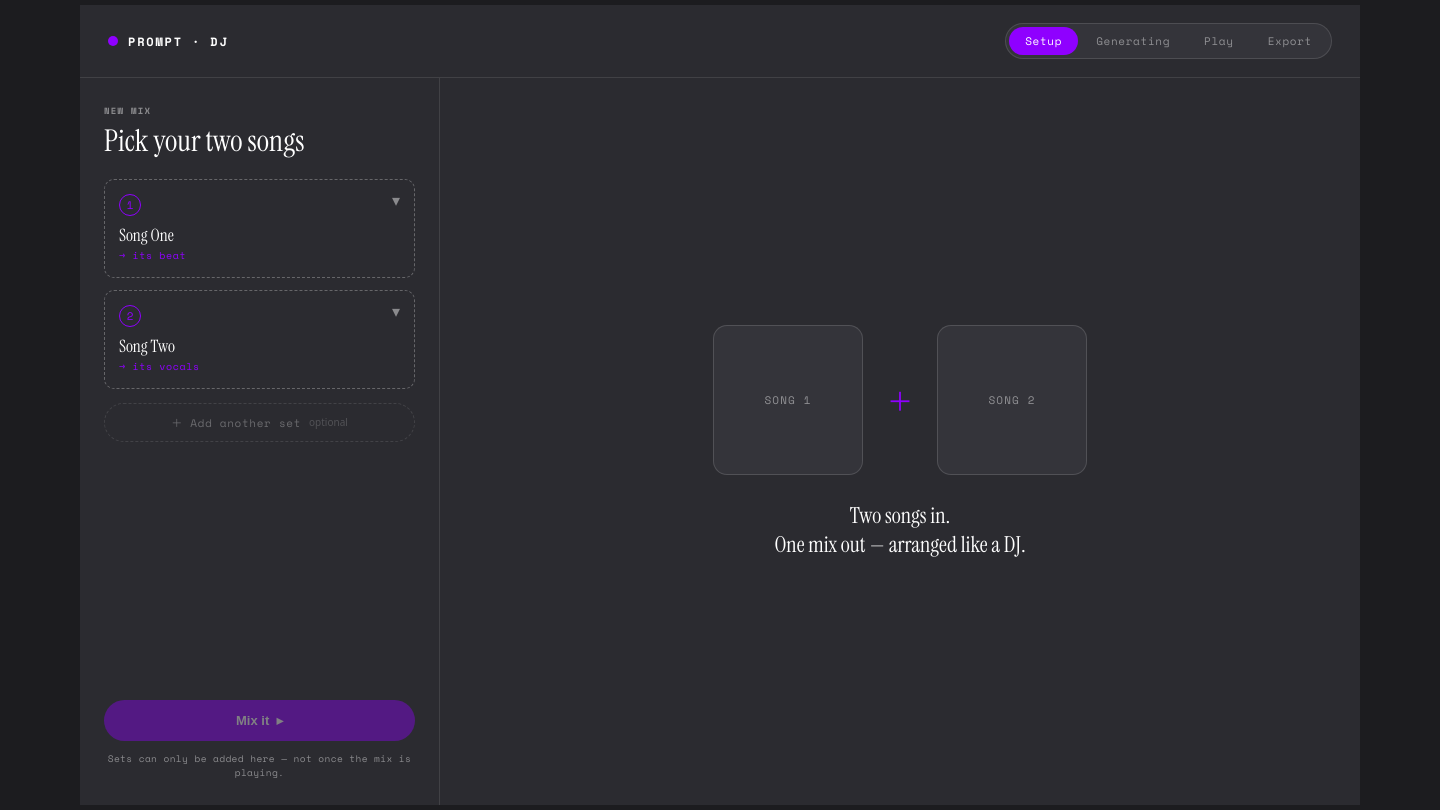
Test: App — the catalog flow › picks two catalog songs → generating → lands on the stripped Play screen (no steering)
The width and height of the screenshot is (1440, 810).
Click the button with test id "song-slot-1". click: {"x": 146, "y": 234}
box: [104,178,415,278]
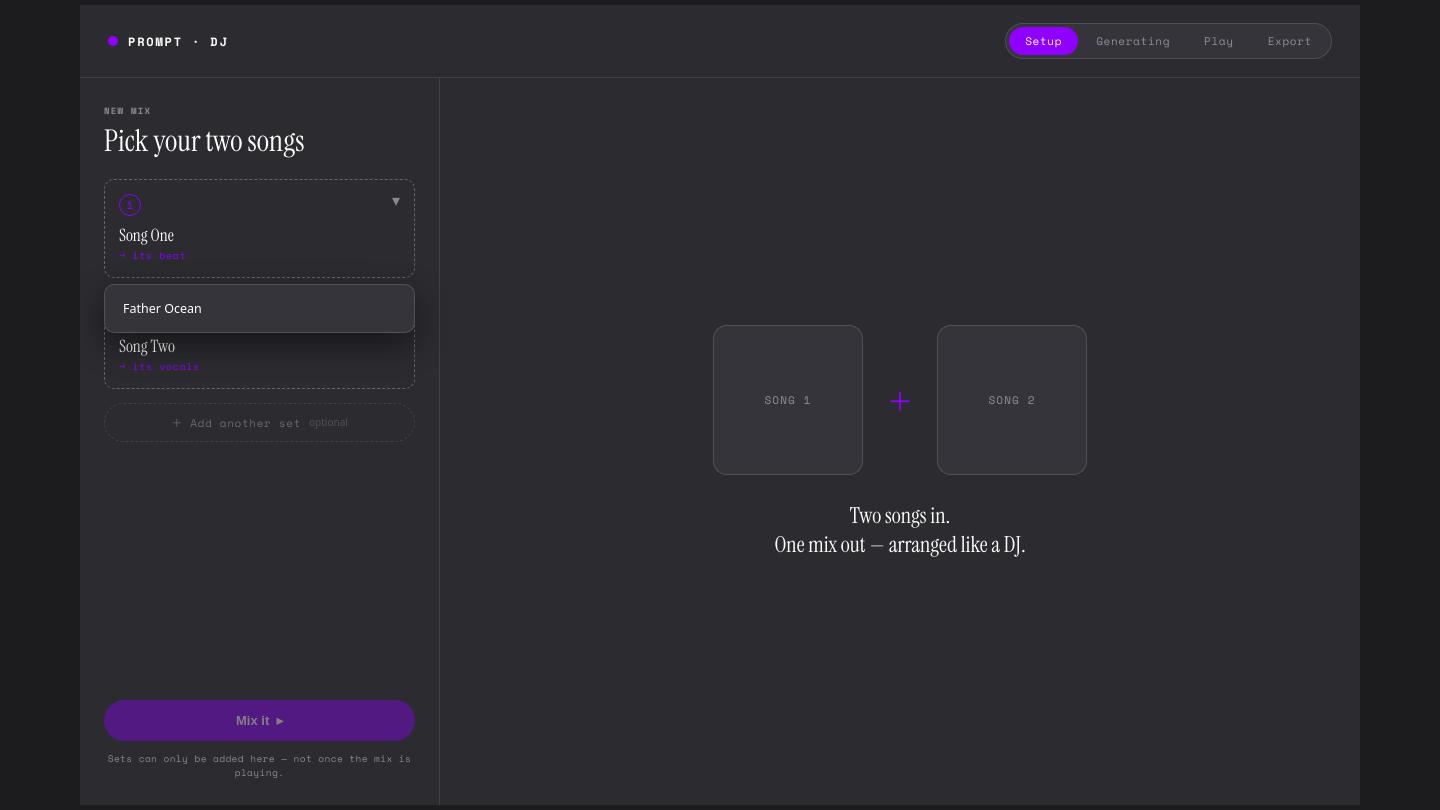
Click the option "Father Ocean". click: {"x": 162, "y": 308}
box: [111,290,408,326]
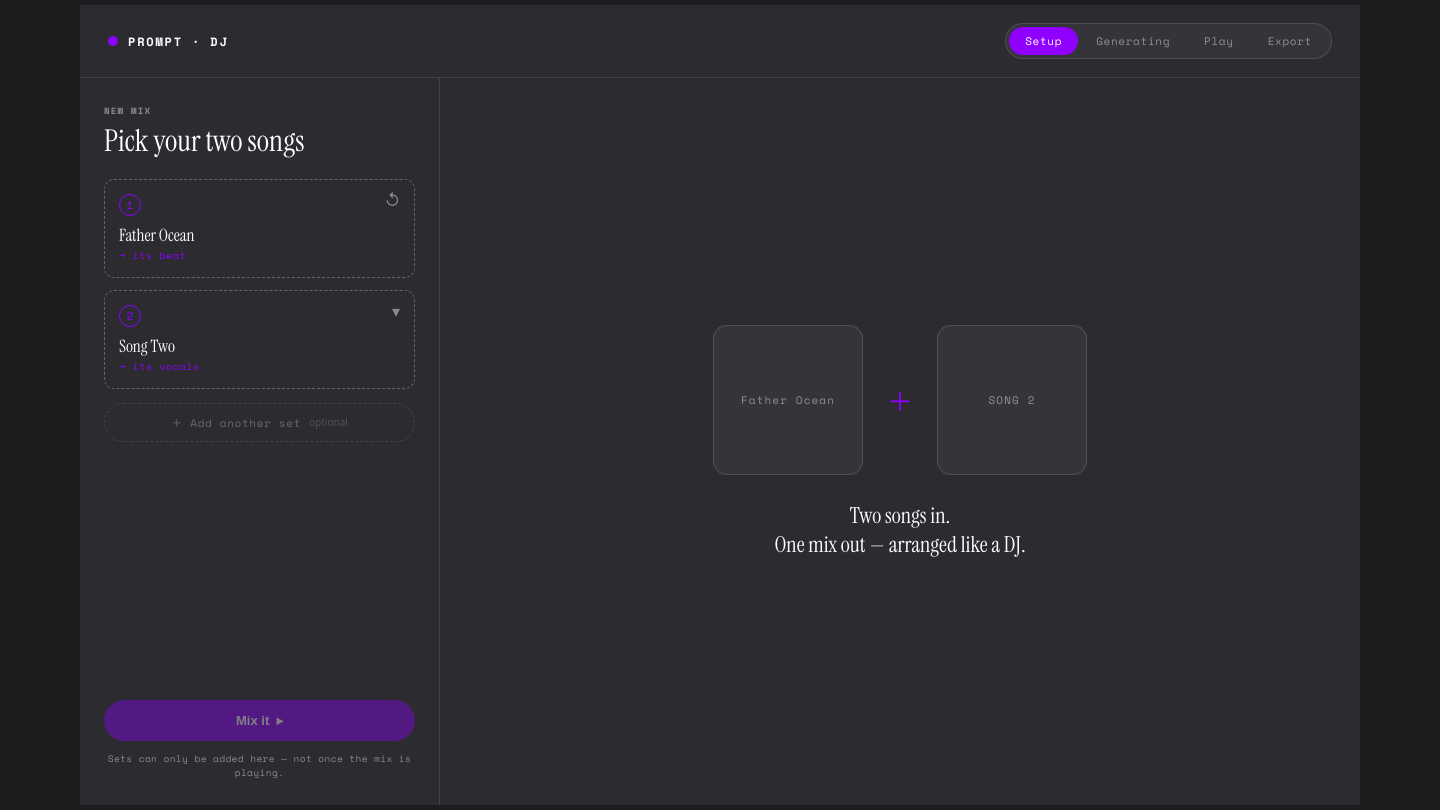
Click the button with test id "song-slot-2". click: {"x": 147, "y": 346}
box: [104,290,415,388]
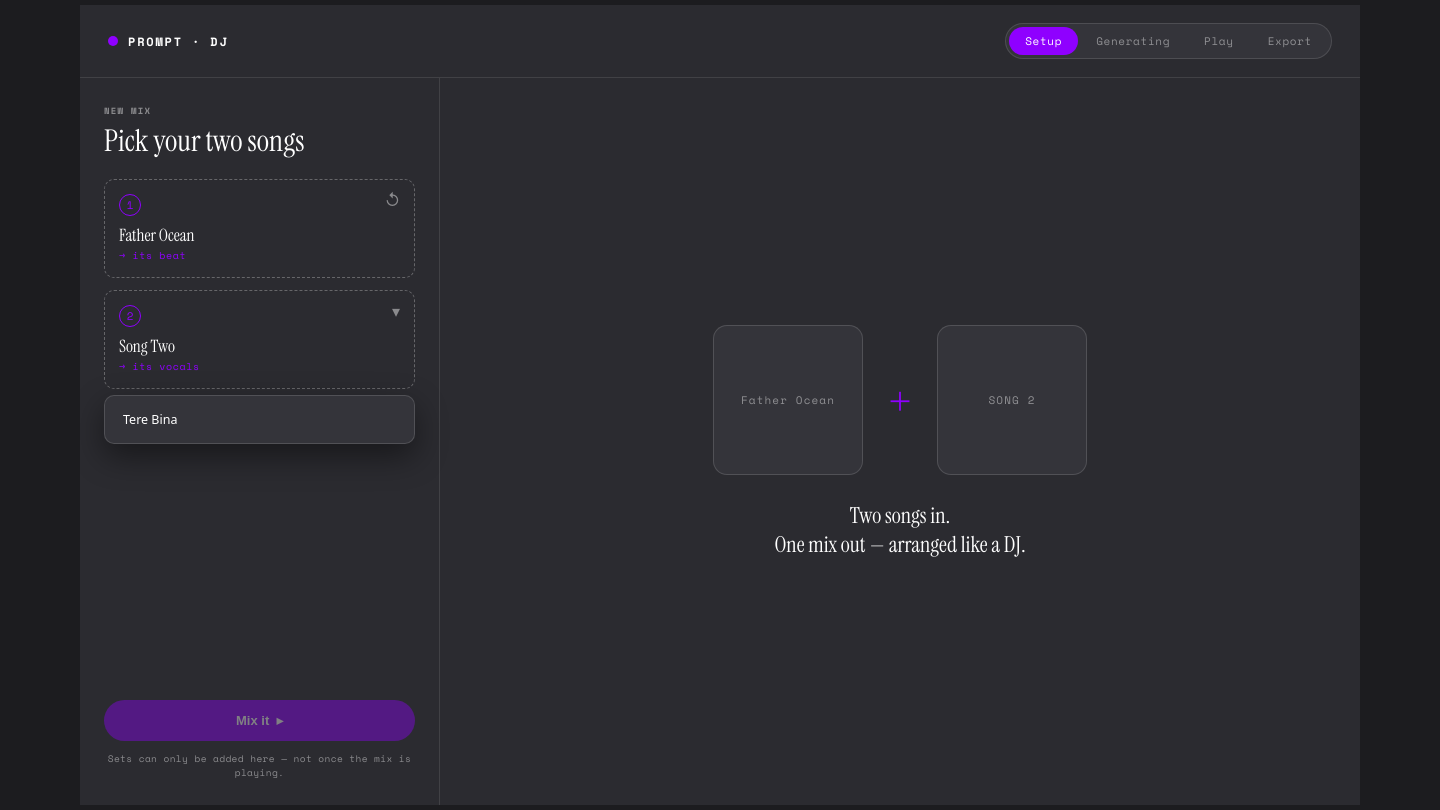
Click the option "Tere Bina". click: {"x": 150, "y": 419}
box: [111,402,408,436]
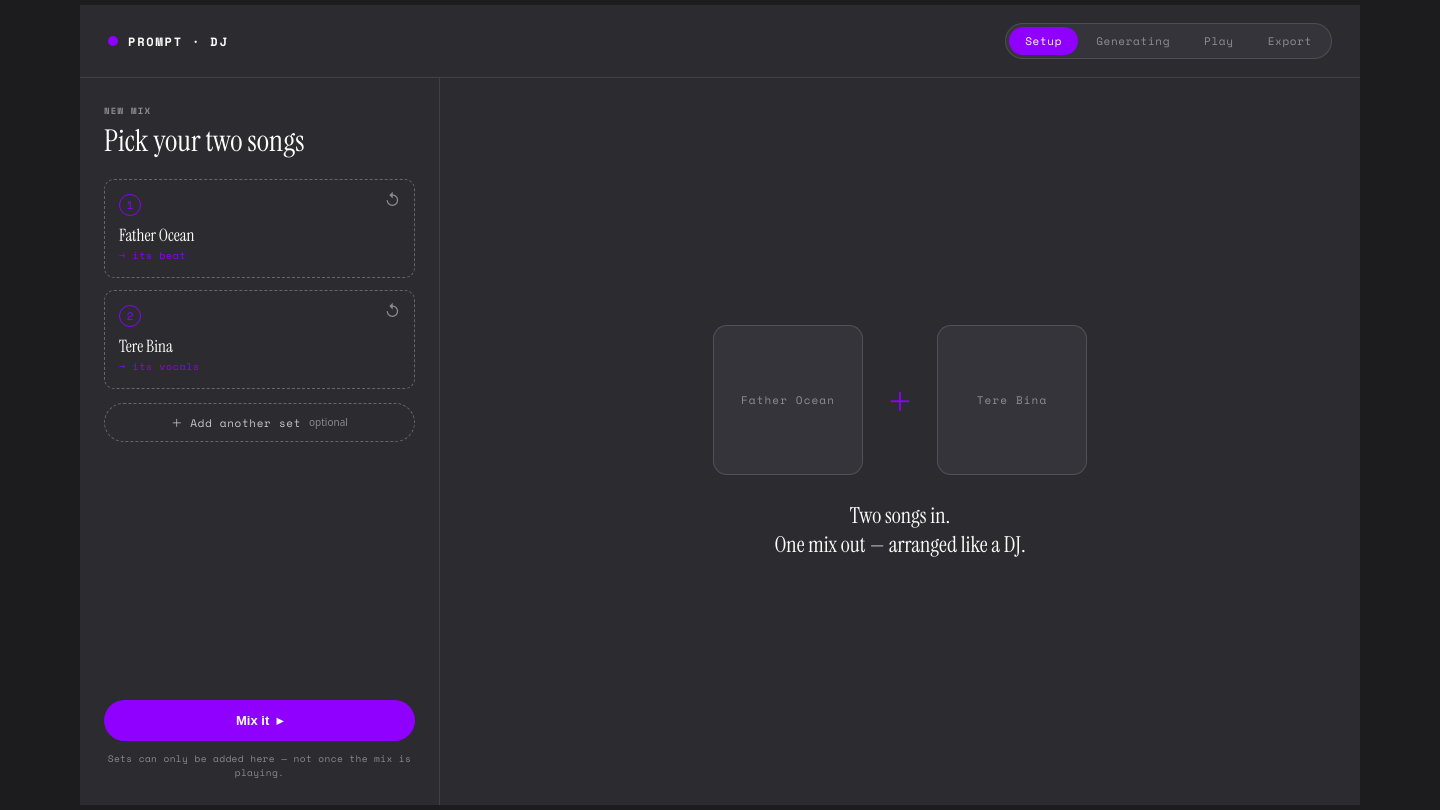
Check: the button "Mix it ▸" is enabled
Click the button "Mix it ▸". click: {"x": 260, "y": 720}
box: [104,700,415,740]
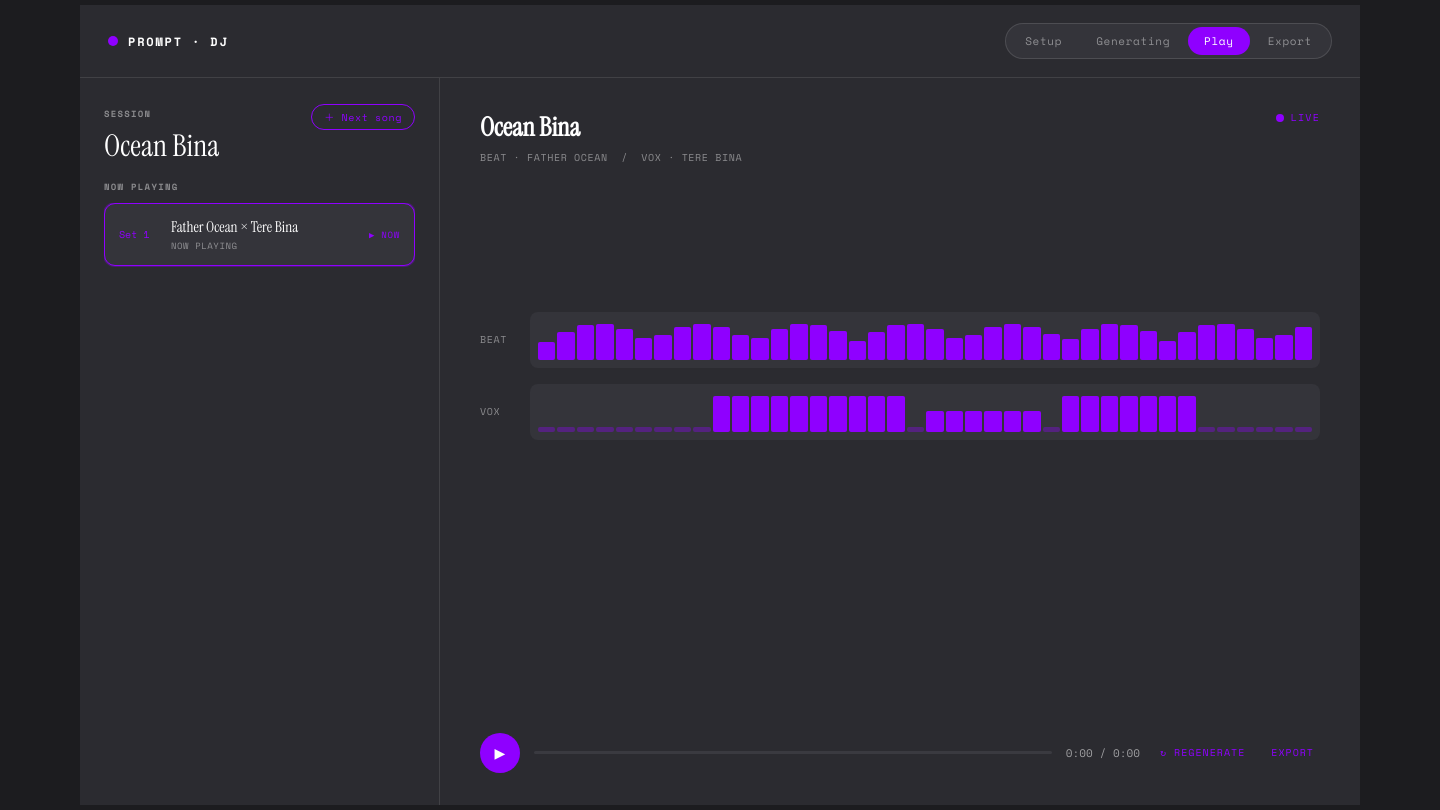
Check: the heading "Ocean Bina" below "Session" is shown, box [104,126,219,165]
Check: the element with test id "lineup-1" is shown, box [104,202,415,266]
